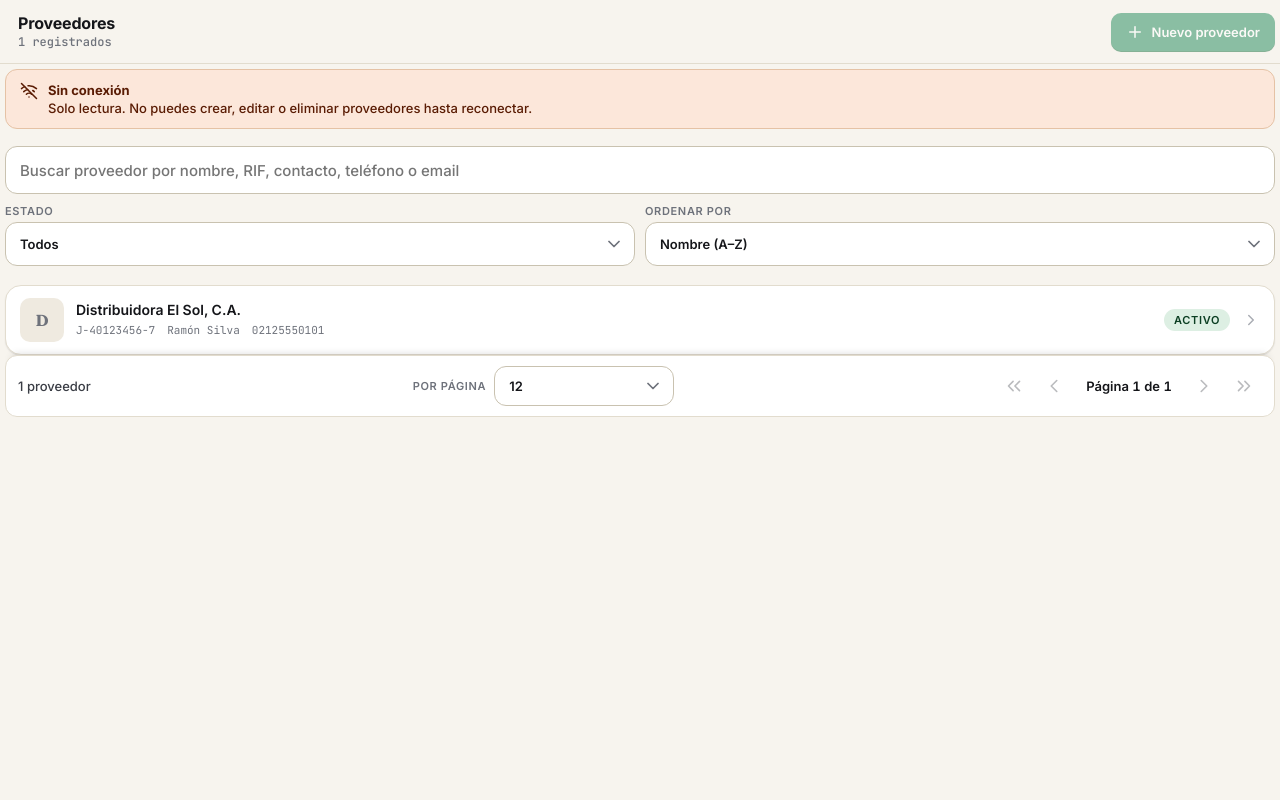
Scenario: Proveedores — offline write-blocking (FEATURES §18) › offline: the detail sheet blocks editar / eliminar with the notice
Click the text "Distribuidora El Sol, C.A." at (42, 320), box [6,286,1274,354]
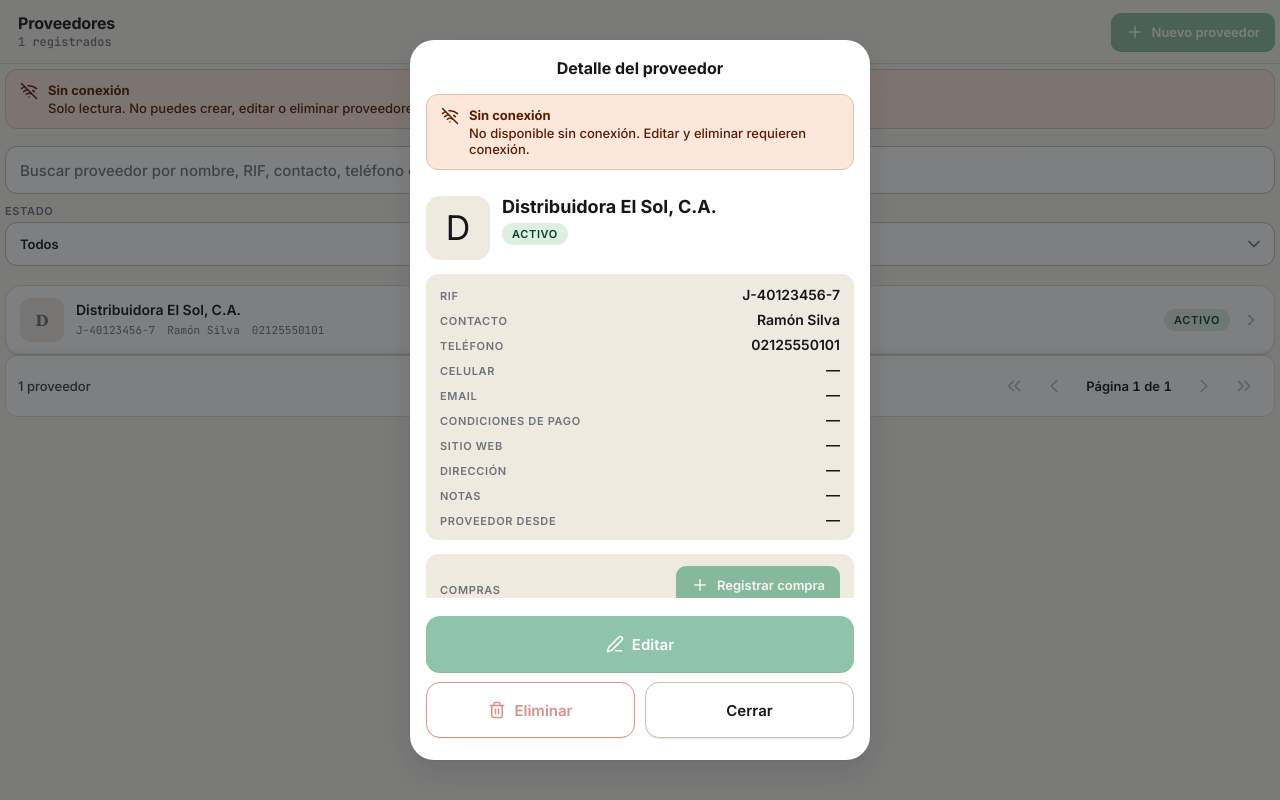
Expected: the button "Editar" is disabled, [426,616,854,672]
Expected: the button "Eliminar" is disabled, [426,682,635,738]
Expected: the text "Editar y eliminar requieren conexión" is shown, [469,125,806,157]
